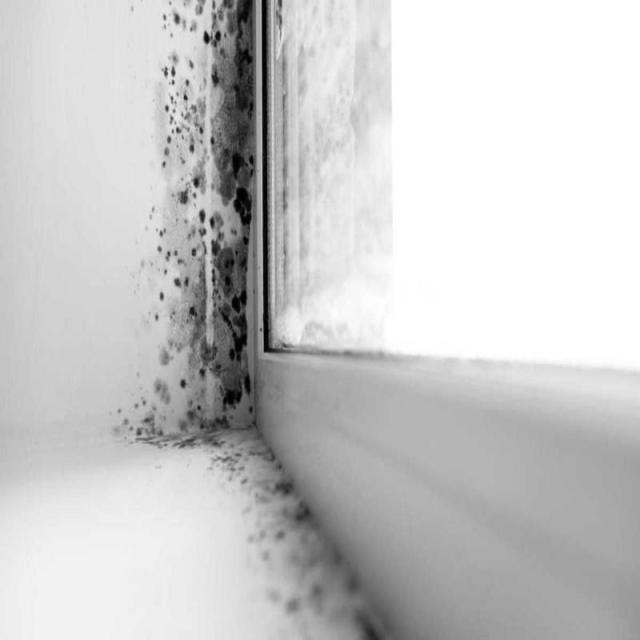stain marks: (88, 0, 279, 501)
